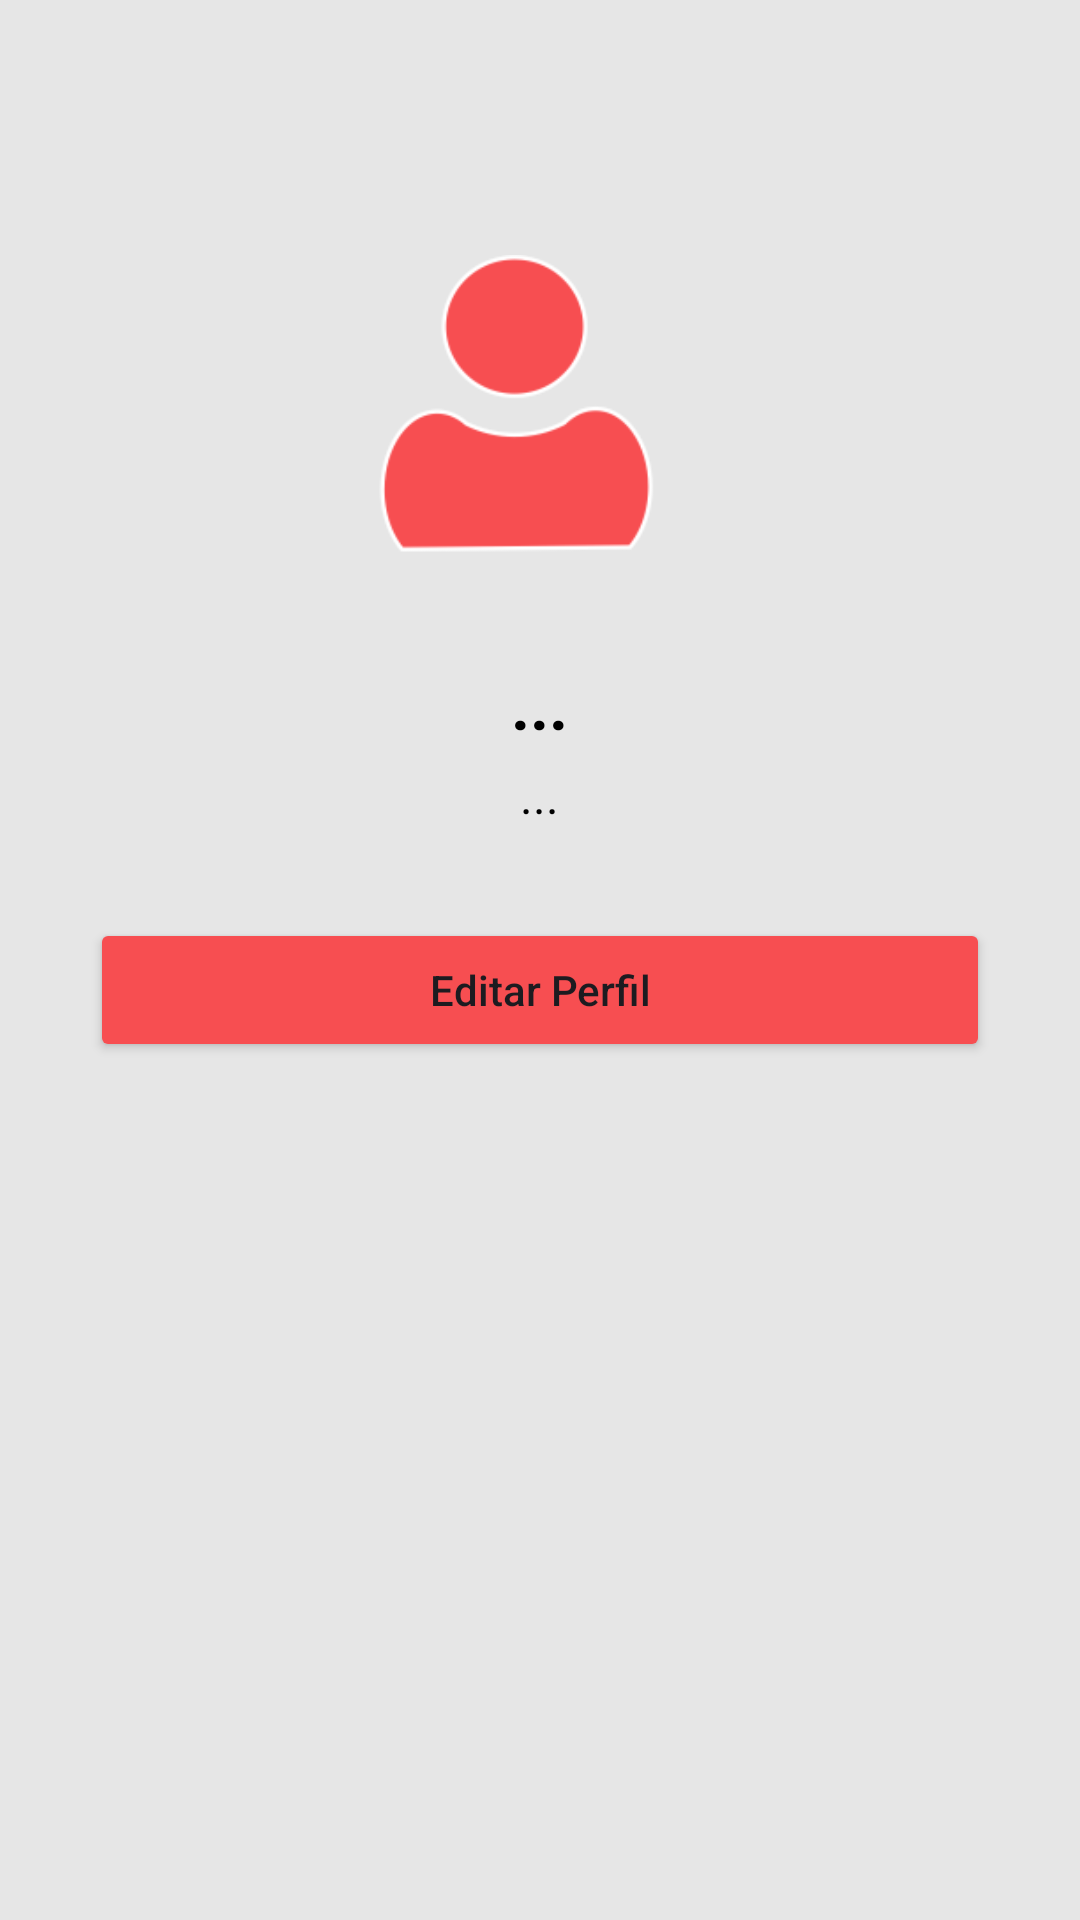

Icons on this 1080px×1920px Android screen, each with the point to tap as (x=x, y=y):
user: (x=516, y=403)
